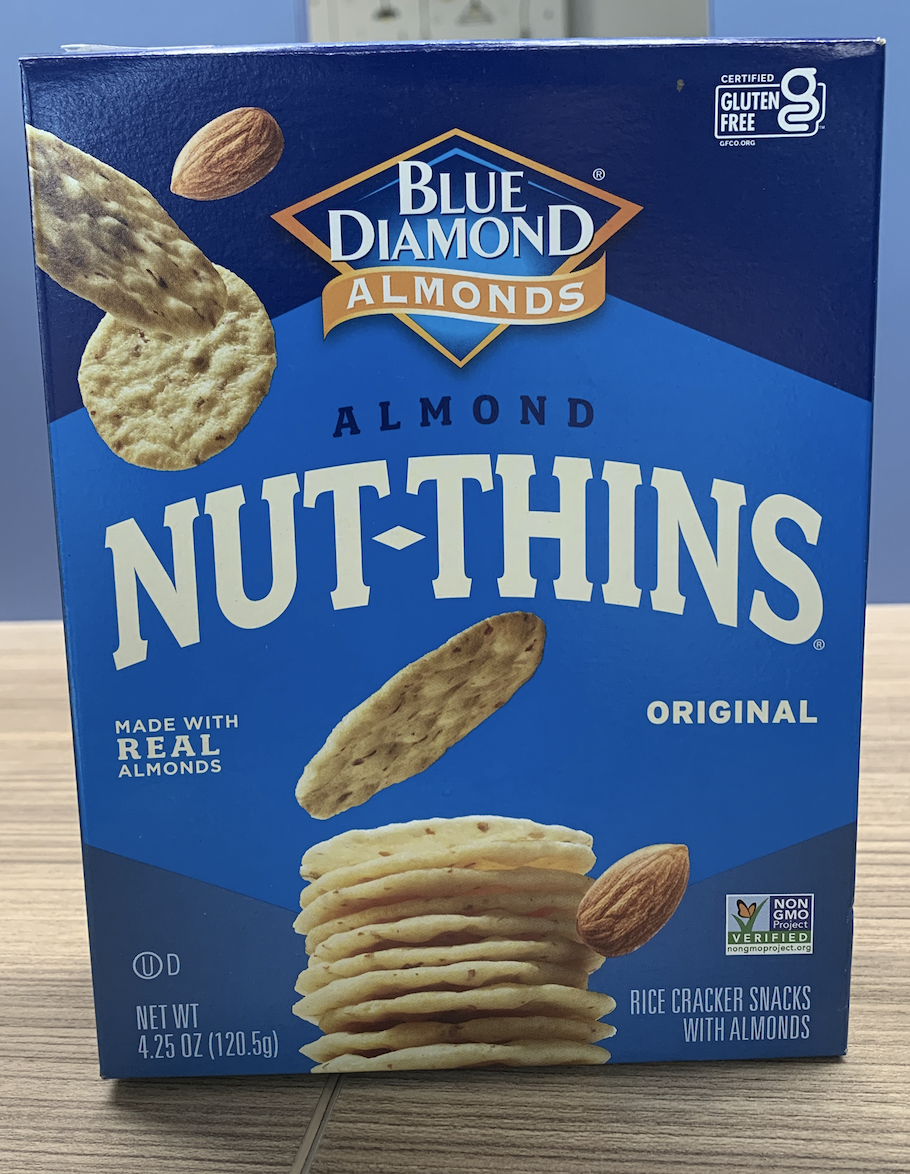crackers_150g: (95, 77, 837, 1067)
